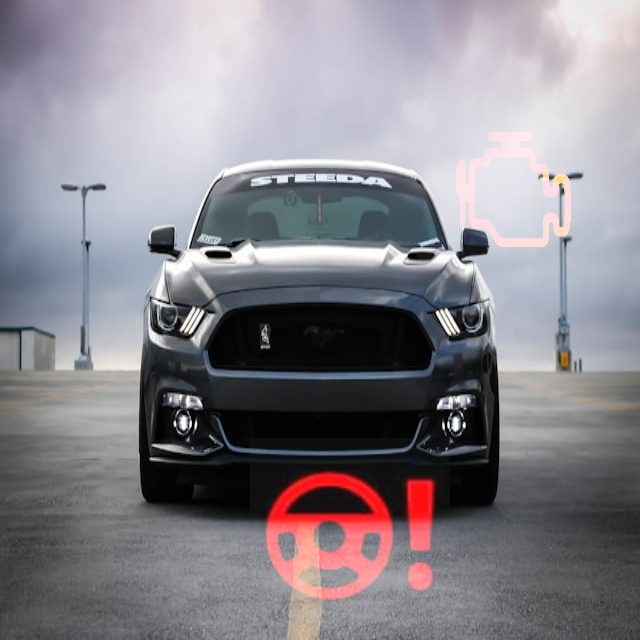symbol: (250, 438, 450, 638), (417, 89, 609, 281)
